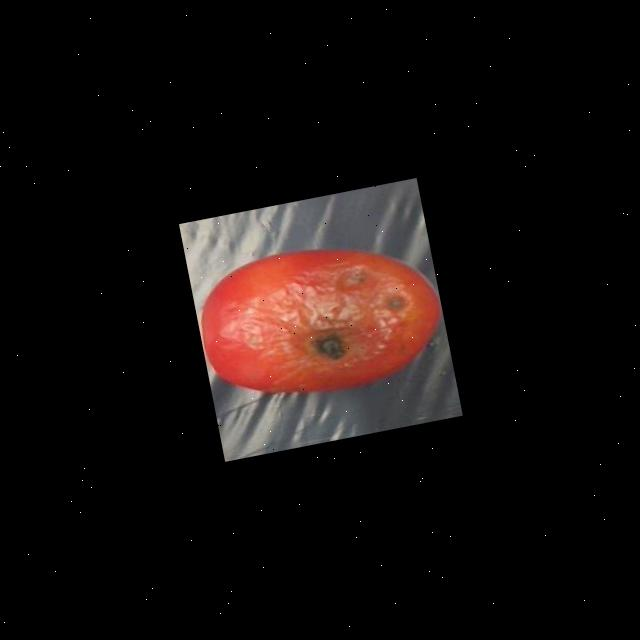tomato: (185, 216, 456, 429)
